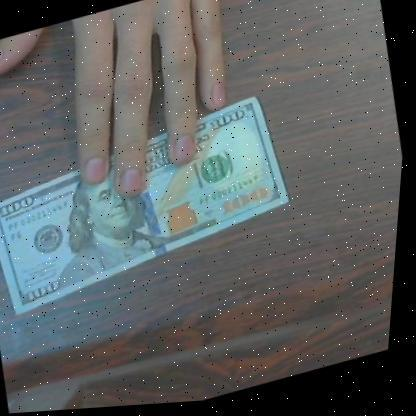one_hundred-front: (0, 85, 309, 321)
